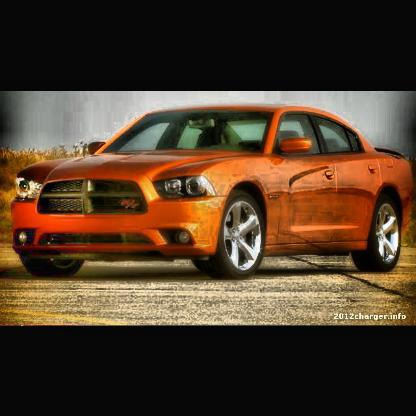Dodge Charger Sedan 2012: (12, 104, 416, 279)
